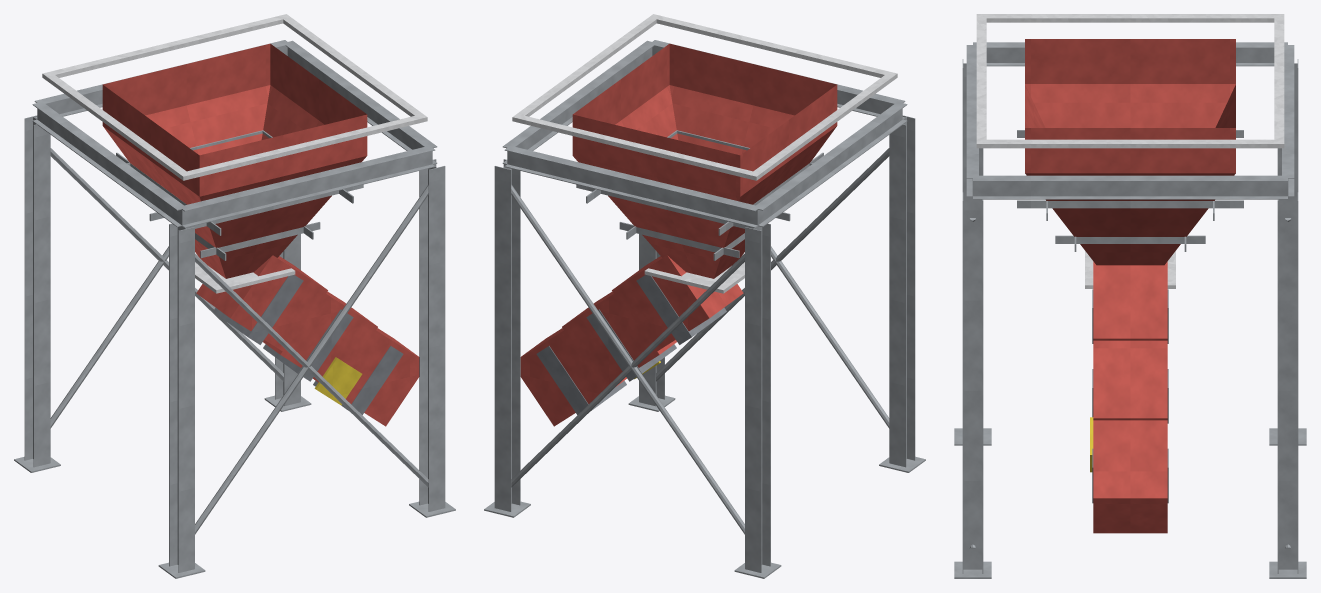
Rendered from chutes-hoppers-and-bins.glb.
3 views of the same model, side by side, from view 1: azimuth 30°, elevation 25°; view 2: azimuth 150°, elevation 25°; view 3: azimuth 270°, elevation 25° (orthographic). The views are drawn at different scales.
Visible parts, largest first — view 1: SupportFrame, HopperPlates, DischargeChute, Flanges, WearLiners, Stiffeners, InspectionDoor; view 2: SupportFrame, HopperPlates, DischargeChute, Flanges, WearLiners, Stiffeners; view 3: HopperPlates, SupportFrame, DischargeChute, Flanges, Stiffeners, WearLiners.
Part boxes in pixels (x1,y1,x2,y2): SupportFrame: (14, 40, 455, 578); HopperPlates: (102, 43, 367, 278); DischargeChute: (196, 255, 419, 426); Flanges: (42, 14, 427, 293); WearLiners: (213, 275, 403, 414); Stiffeners: (116, 130, 363, 260); InspectionDoor: (314, 357, 362, 405); SupportFrame: (484, 40, 925, 578); HopperPlates: (572, 43, 837, 278); DischargeChute: (520, 255, 743, 426); Flanges: (512, 14, 897, 293); WearLiners: (536, 275, 726, 414); Stiffeners: (576, 130, 823, 260); HopperPlates: (1025, 39, 1235, 265); SupportFrame: (954, 42, 1306, 578); DischargeChute: (1093, 261, 1167, 533); Flanges: (976, 14, 1284, 288); Stiffeners: (1017, 130, 1243, 251); WearLiners: (1092, 289, 1168, 503).
Size of the model in its own units: 4.8 by 5.66 by 4.25.
Materials: 5 (5 with a texture image).
